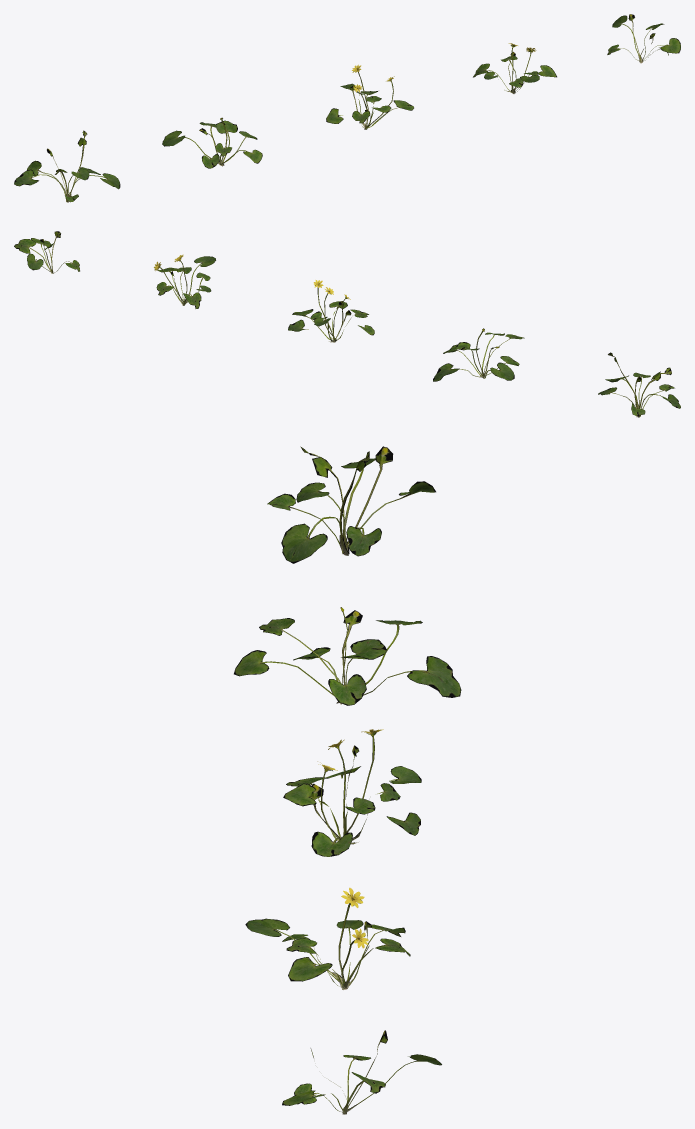
The model's file is celandine_01.glb.
The picture shows the model from 3 angles, top to bottom: view 1: azimuth 30°, elevation 25°; view 2: azimuth 150°, elevation 25°; view 3: azimuth 270°, elevation 25°; orthographic projection. The views are drawn at different scales.
Parts seen in each view (by area): view 1: celandine_01_b, celandine_01_a, celandine_01_c, celandine_01_d, celandine_01_e; view 2: celandine_01_b, celandine_01_c, celandine_01_d, celandine_01_a, celandine_01_e; view 3: celandine_01_b, celandine_01_a, celandine_01_c, celandine_01_d, celandine_01_e.
Part boxes in pixels (<box>): celandine_01_b: <box>162,117,262,168</box>; celandine_01_a: <box>14,130,120,202</box>; celandine_01_c: <box>326,64,413,129</box>; celandine_01_d: <box>473,43,556,93</box>; celandine_01_e: <box>607,14,680,63</box>; celandine_01_b: <box>433,328,524,381</box>; celandine_01_c: <box>288,280,374,342</box>; celandine_01_d: <box>154,254,215,308</box>; celandine_01_a: <box>598,352,680,417</box>; celandine_01_e: <box>14,231,79,273</box>; celandine_01_b: <box>234,607,461,705</box>; celandine_01_a: <box>267,446,435,563</box>; celandine_01_c: <box>283,729,421,856</box>; celandine_01_d: <box>245,887,410,989</box>; celandine_01_e: <box>282,1030,441,1114</box>.
Size of the model in its own units: 2.02 by 0.1863 by 0.3067.
Materials: 1 (1 with a texture image).
